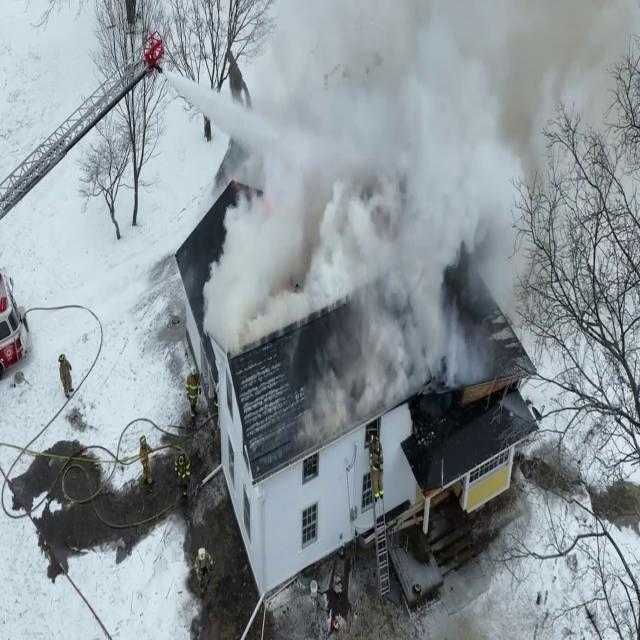Smoke: (192, 0, 574, 395)
